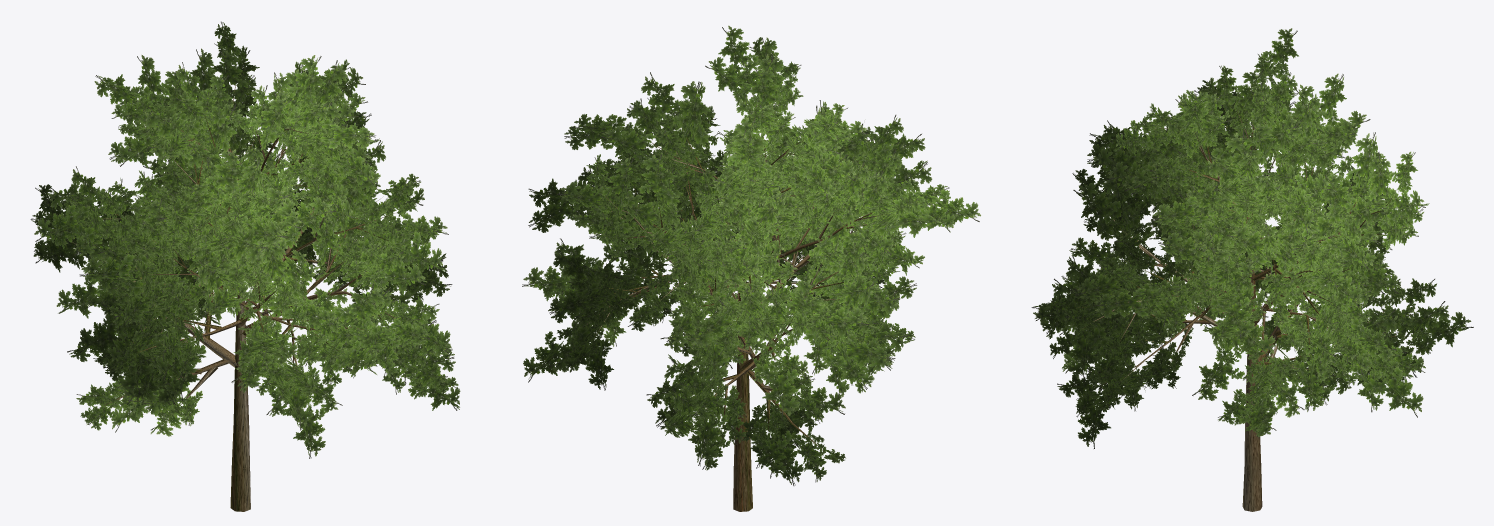
Rendered from oak.glb.
3 views of the same model, side by side, from view 1: azimuth 30°, elevation 25°; view 2: azimuth 150°, elevation 25°; view 3: azimuth 270°, elevation 25° (orthographic). The views are drawn at different scales.
Visible parts, largest first — view 1: oak; view 2: oak; view 3: oak.
Boxes of the visible parts, x1=… form: oak: x1=30, y1=21, x2=460, y2=511; oak: x1=522, y1=25, x2=980, y2=511; oak: x1=1031, y1=28, x2=1473, y2=511.
Size of the model in its own units: 9.02 by 9 by 8.31.
Materials: 2 (2 with a texture image).
